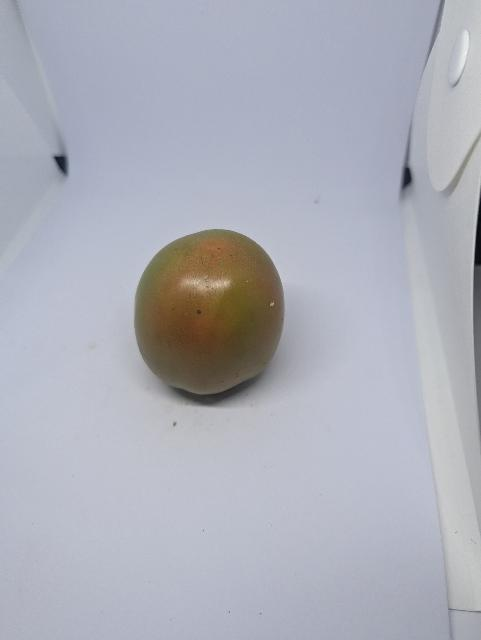breaker: (129, 227, 295, 404)
